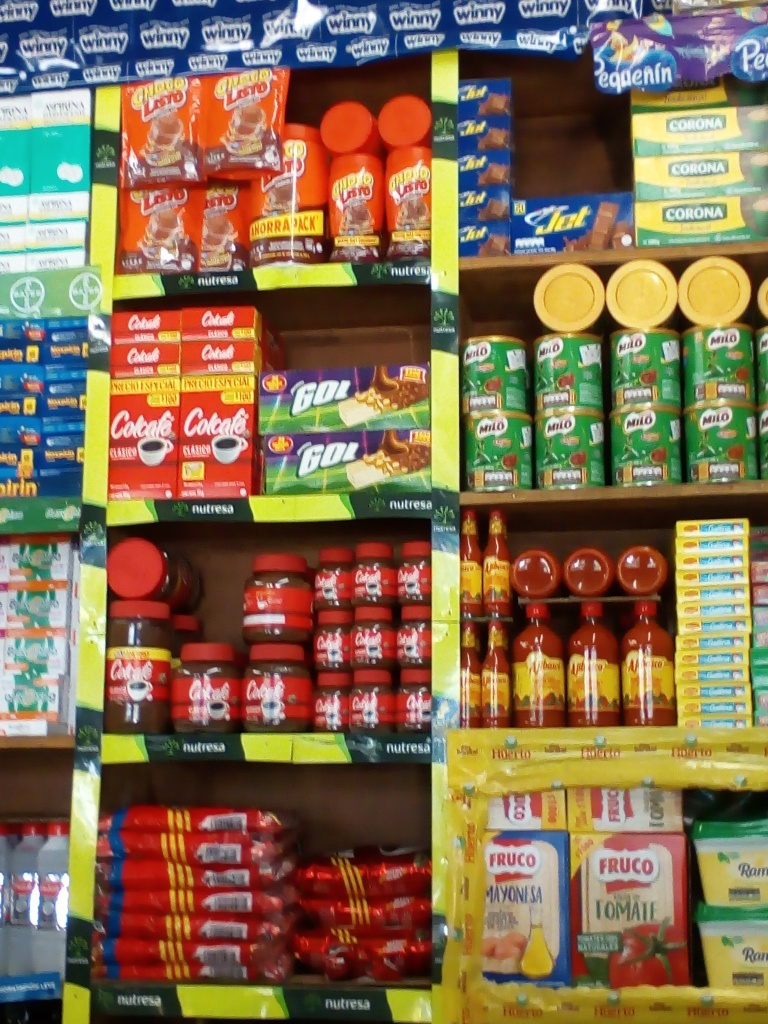COL0170103TRR00100: (249, 122, 329, 262)
COL0170203LAT40000: (459, 333, 529, 411)
